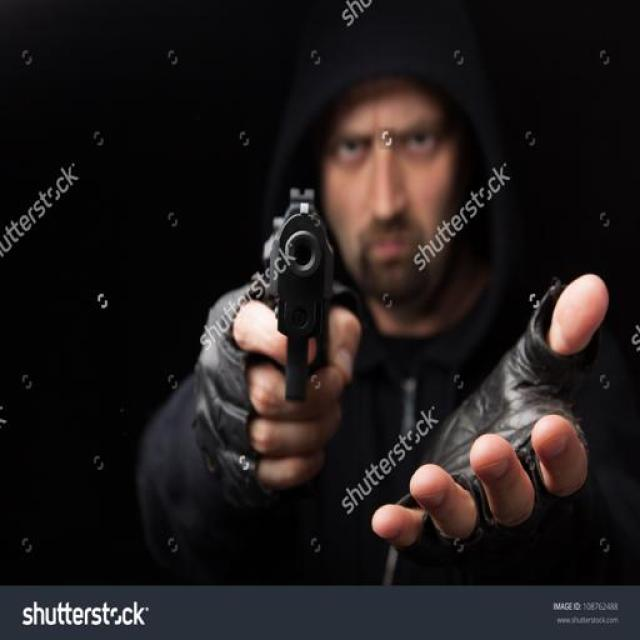pistol: (261, 187, 346, 405)
